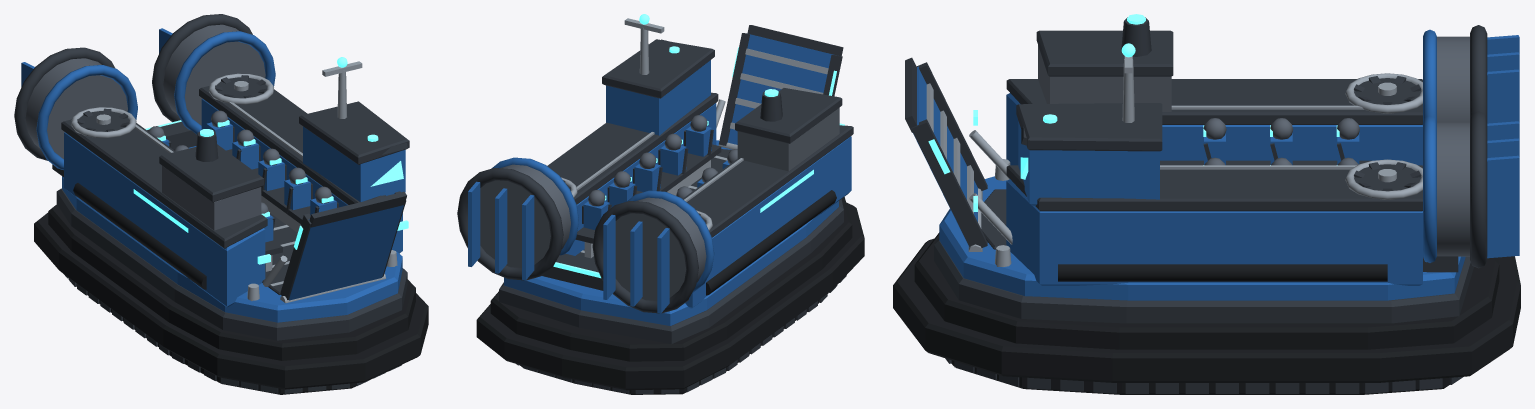
Rendered from tideskiff-hovercraft.glb.
The picture shows the model from 3 angles, left to right: view 1: azimuth 30°, elevation 25°; view 2: azimuth 150°, elevation 25°; view 3: azimuth 270°, elevation 25°; orthographic projection. The views are drawn at different scales.
Parts seen in each view (by area): view 1: finger_0_0, hull_deck, skirt_lower, eng_shell, deck_grip_0, cushion_glow; view 2: finger_0_0, hull_deck, skirt_lower, eng_shell, deck_grip_0, cushion_glow; view 3: finger_0_0, hull_deck, skirt_lower, eng_shell, deck_grip_0, cushion_glow.
Part boxes in pixels (<box>): finger_0_0: <box>14,14,409,393</box>; hull_deck: <box>21,28,405,322</box>; skirt_lower: <box>34,183,428,394</box>; eng_shell: <box>25,24,331,230</box>; deck_grip_0: <box>71,61,397,303</box>; cushion_glow: <box>133,57,408,264</box>; finger_0_0: <box>457,25,853,394</box>; hull_deck: <box>468,34,851,325</box>; skirt_lower: <box>476,190,864,394</box>; eng_shell: <box>480,107,839,300</box>; deck_grip_0: <box>561,18,828,258</box>; cushion_glow: <box>553,14,844,278</box>; finger_0_0: <box>905,17,1487,393</box>; hull_deck: <box>912,29,1519,300</box>; skirt_lower: <box>893,232,1520,394</box>; eng_shell: <box>1038,36,1469,256</box>; deck_grip_0: <box>926,56,1422,266</box>; cushion_glow: <box>928,14,1339,211</box>.
Size of the model in its own units: 4.62 by 4.64 by 8.
